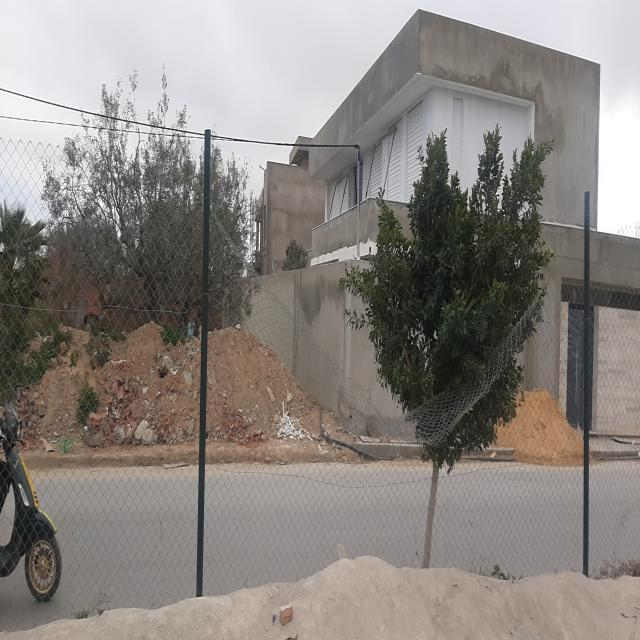fence line: (250, 220, 551, 416)
